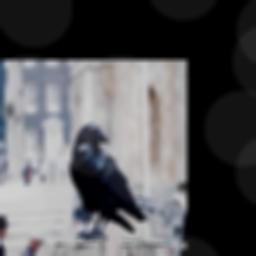Crow: (69, 121, 147, 241)
